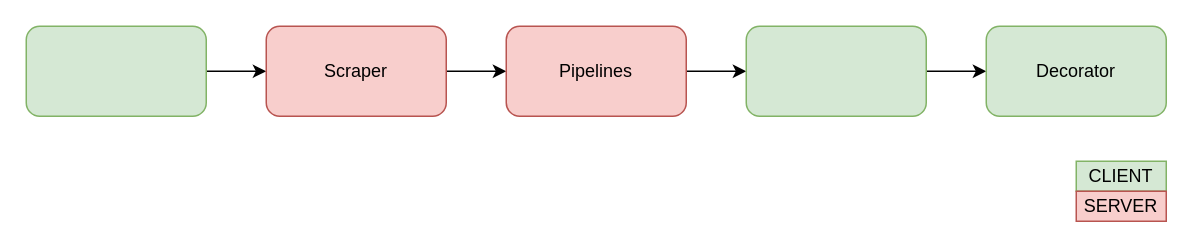
Image size: 1193x248. Some labels were removed from this diagram. The centre of each missing label's shape, as x and y in pixels:
"Analyse URL" goes at (115,70).
"Scorer" goes at (835,70).
